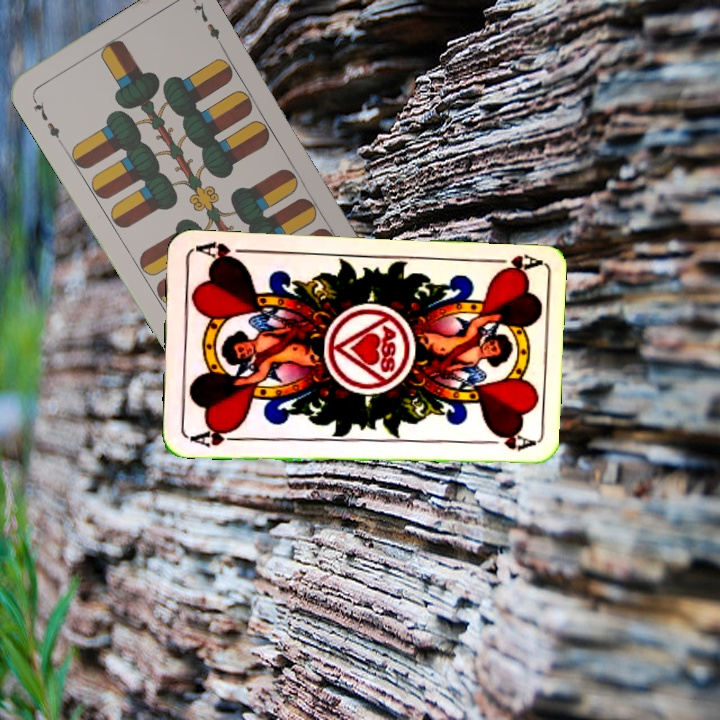E7: (28, 94, 65, 147)
HA: (184, 423, 243, 450), (481, 250, 540, 277)
